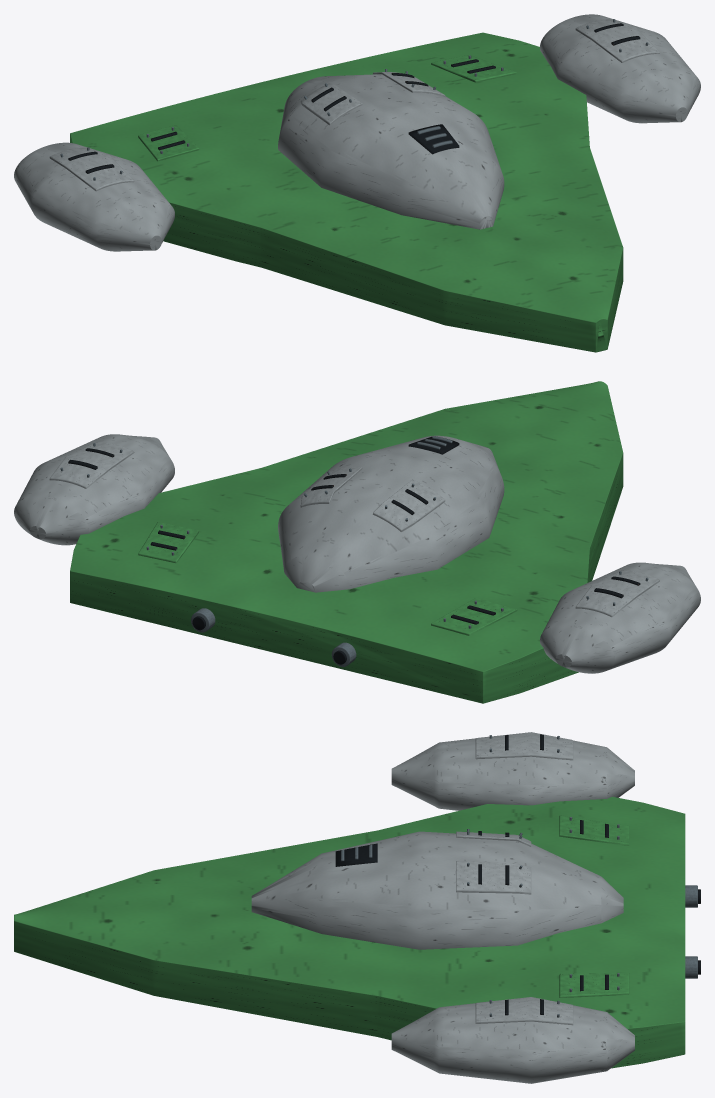
3 renders of one model, top to bottom at view 1: azimuth 30°, elevation 25°; view 2: azimuth 150°, elevation 25°; view 3: azimuth 270°, elevation 25°, orthographic. The views are drawn at different scales.
Visible parts, largest first — view 1: PrimaryHullAndArmour, ServiceAssemblies, RecessedMachinery, TrimAndFasteners; view 2: PrimaryHullAndArmour, ServiceAssemblies, RecessedMachinery, TrimAndFasteners; view 3: PrimaryHullAndArmour, ServiceAssemblies, RecessedMachinery.
Part boxes in pixels (x1,y1,x2,y2): PrimaryHullAndArmour: (14,14,700,352); ServiceAssemblies: (49,19,659,191); RecessedMachinery: (68,23,640,173); TrimAndFasteners: (60,19,648,180); PrimaryHullAndArmour: (14,381,700,703); ServiceAssemblies: (49,442,659,666); RecessedMachinery: (68,436,640,664); TrimAndFasteners: (60,436,648,628); PrimaryHullAndArmour: (14,732,685,1083); ServiceAssemblies: (456,732,697,1025); RecessedMachinery: (335,734,700,1015).
Bounding box in the file's own units: 2.72 × 0.4393 × 2.46.
1 material, 1 textured.
